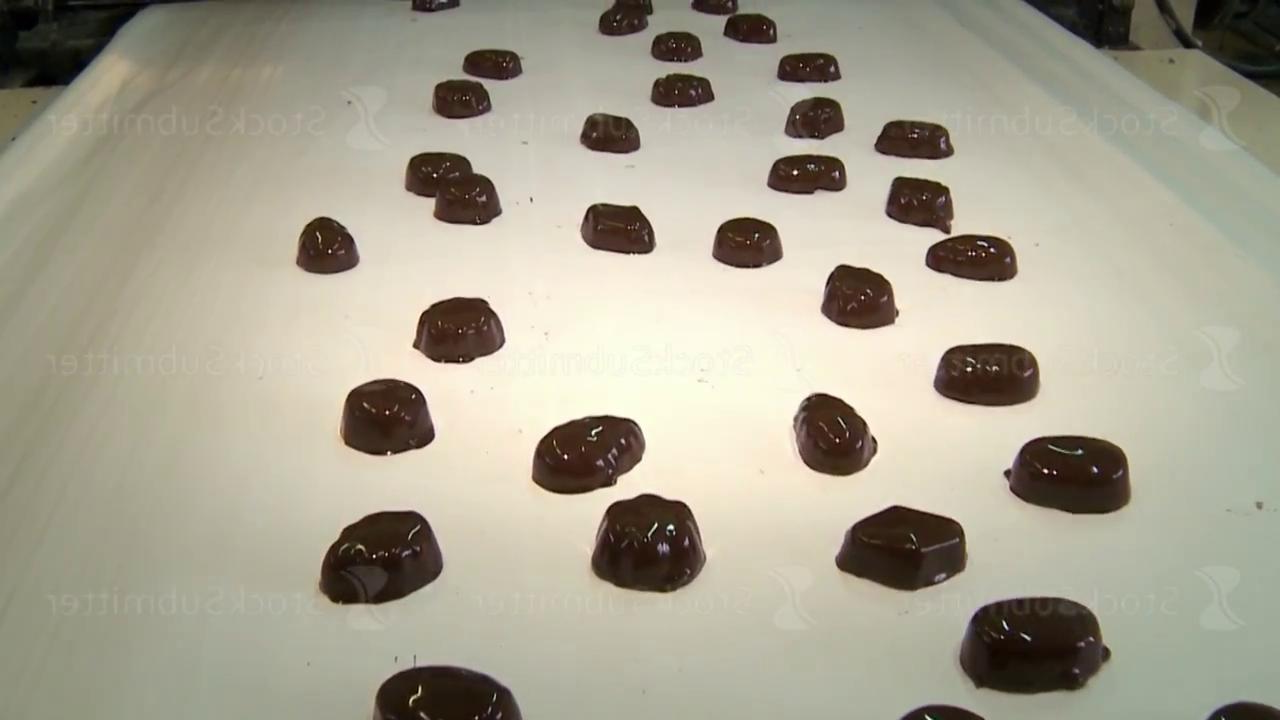chocolate: (959, 595, 1110, 694), (319, 509, 443, 604), (836, 504, 968, 591), (591, 493, 706, 592), (1007, 434, 1131, 514), (532, 414, 645, 493), (373, 664, 522, 719), (341, 377, 435, 455), (793, 392, 878, 475), (934, 342, 1040, 406), (413, 296, 506, 363), (822, 264, 899, 329), (926, 233, 1018, 281), (581, 202, 656, 254), (886, 176, 954, 232), (296, 216, 359, 274), (713, 217, 783, 268), (434, 173, 502, 224), (875, 119, 954, 159), (768, 154, 847, 194), (405, 151, 472, 196), (785, 96, 845, 139), (581, 112, 640, 153), (652, 72, 715, 108), (433, 79, 491, 118), (778, 52, 842, 82), (599, 1, 653, 36), (463, 48, 523, 79), (724, 13, 777, 44), (652, 30, 703, 62)
